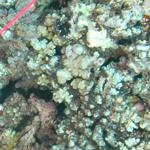alive: (6, 2, 147, 148)
